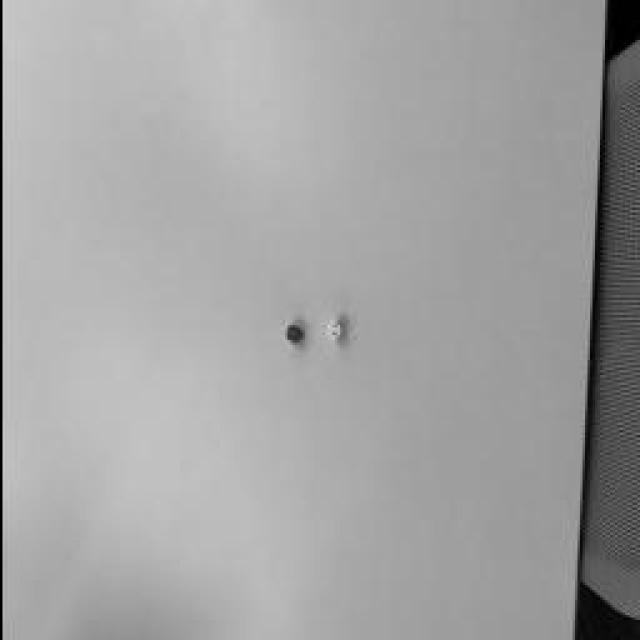dice_1: (285, 326, 295, 342)
dice_2: (328, 322, 338, 338)
